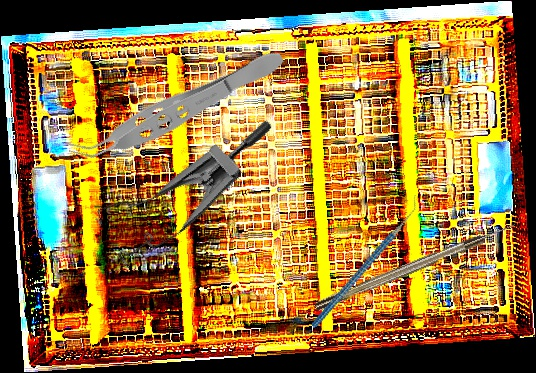Chopper: (281, 194, 448, 329)
Hook Surgical: (313, 220, 518, 312)
Speculum: (80, 69, 276, 292)
Tissue Forceps: (64, 39, 290, 176)
